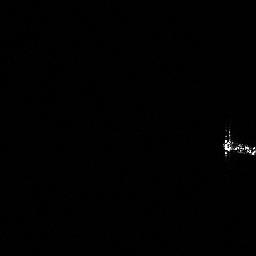ship: (221, 128, 256, 159)
